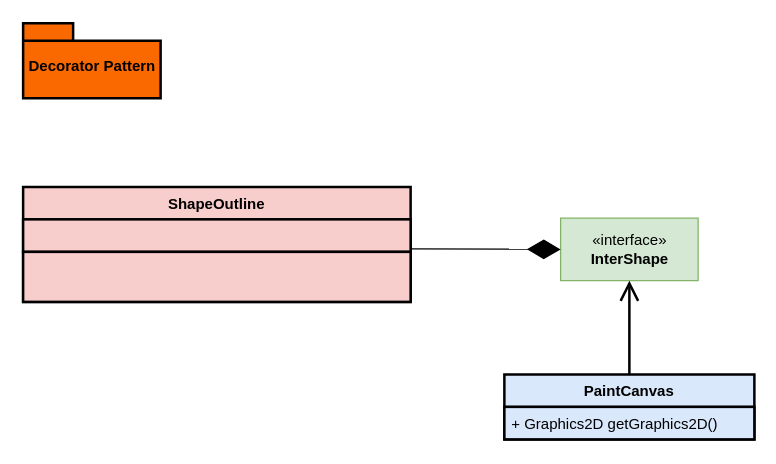
Image size: 776x464. Some labels were removed from this diagram. The centre of each missing label's shape, as x and y in pixels:
+ ShapeOutline(InterShape) + selectShape(g: Graphics2D, st: ShapeType): void: (x=216, y=276)
- shape: InterShape: (x=216, y=235)
